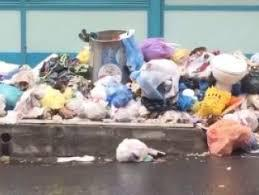Container: (81, 27, 132, 86)
Garbage: (61, 91, 258, 121), (13, 69, 72, 121), (203, 120, 256, 157), (141, 60, 184, 104), (81, 78, 132, 113), (67, 84, 110, 122), (112, 134, 156, 168), (180, 52, 206, 92), (53, 56, 85, 83), (143, 37, 173, 63), (125, 41, 145, 75)
